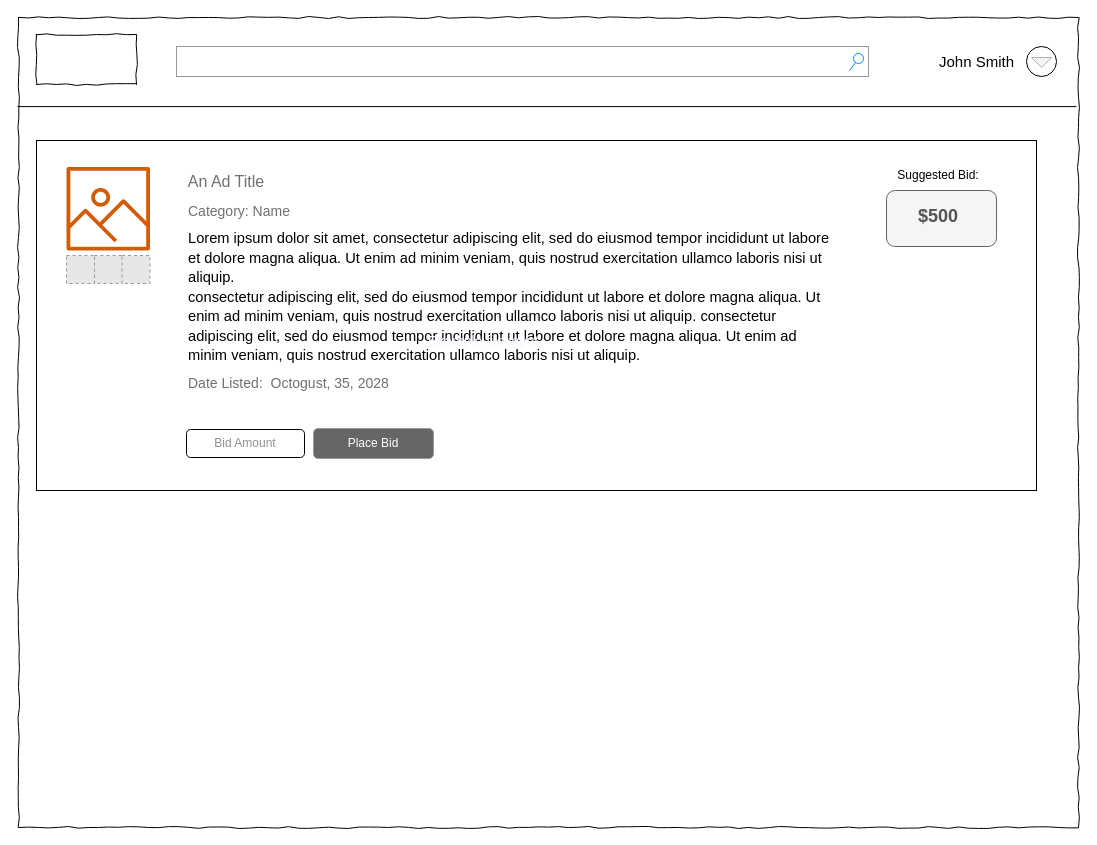
Image size: 1097x845. Some labels were removed from this diagram. Grey dashed boxes stand in for pictures. The box of each missing label's shape, as (x1, y1, x2, y2) in pixels:
LOGO: (36, 34, 136, 84)
Search: (176, 46, 868, 76)
